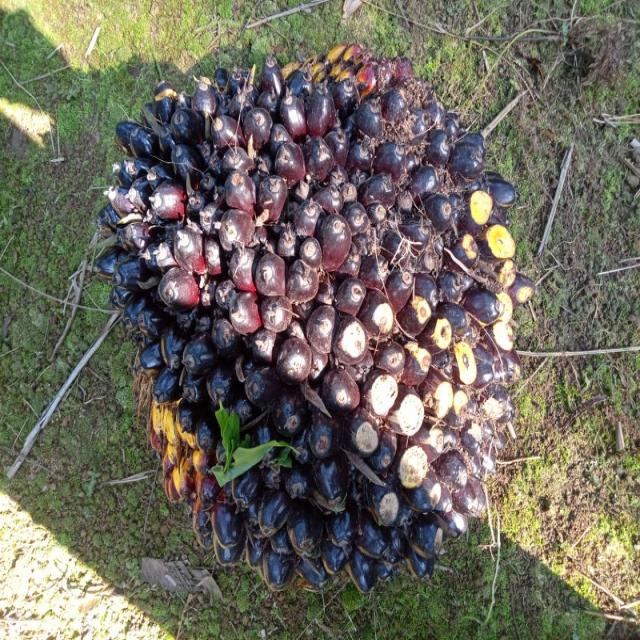fraksi 00: (79, 40, 556, 596)
